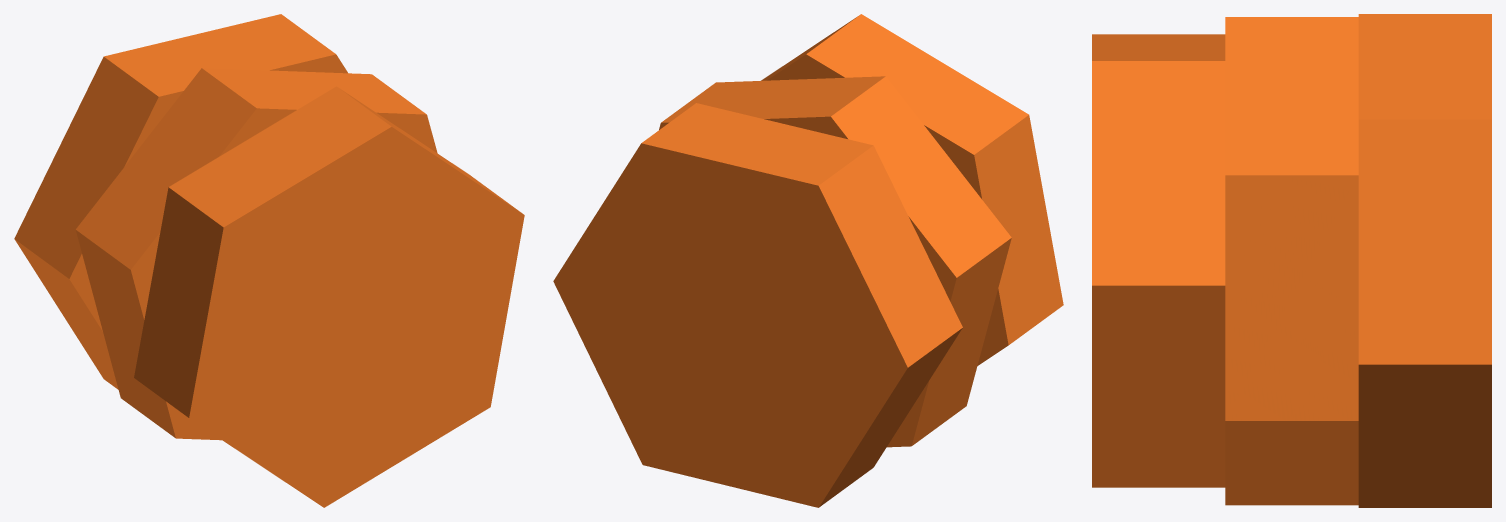
The model's file is HexBlocks.obj.
The picture shows the model from 3 angles, left to right: view 1: azimuth 30°, elevation 25°; view 2: azimuth 150°, elevation 25°; view 3: azimuth 270°, elevation 25°; orthographic projection. The views are drawn at different scales.
Visible parts, largest first — view 1: Object.3, Object.2, Object.1; view 2: Object.1, Object.2, Object.3; view 3: Object.1, Object.2, Object.3.
Part boxes in pixels (box(x1,y1,x2,y2)): Object.3: box(134, 86, 524, 507); Object.2: box(75, 68, 437, 440); Object.1: box(14, 14, 347, 389); Object.1: box(553, 103, 962, 507); Object.2: box(659, 76, 1011, 447); Object.3: box(761, 14, 1063, 365); Object.1: box(1358, 14, 1491, 507); Object.2: box(1225, 17, 1358, 505); Object.3: box(1092, 34, 1225, 487).
Size of the model in its own units: 57.59 by 56.54 by 46.47.
